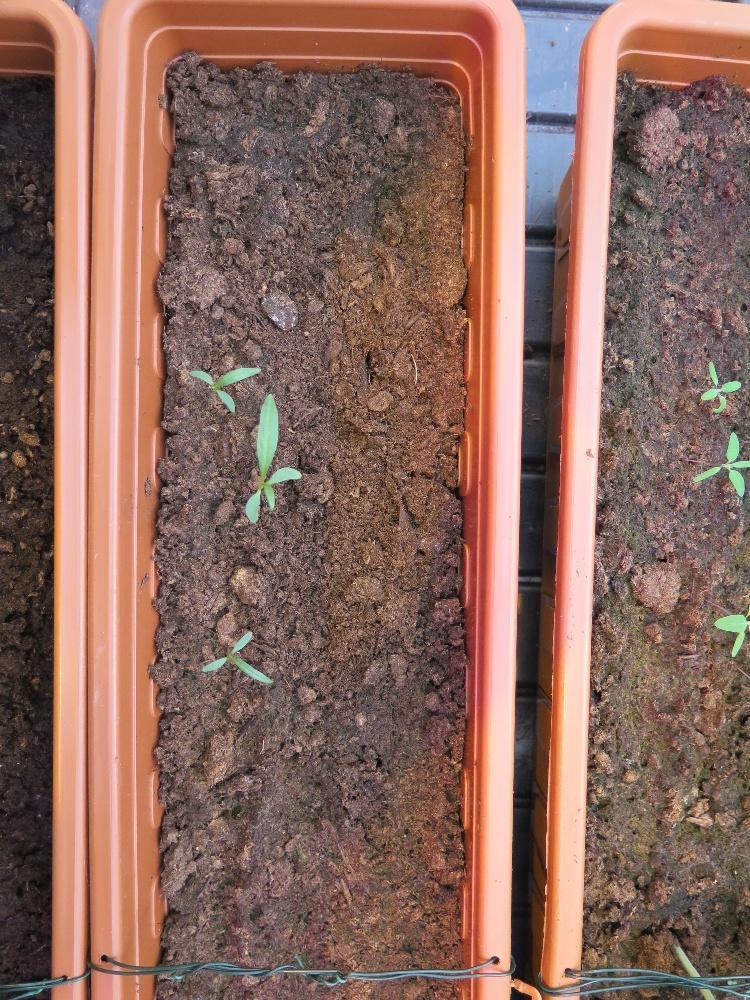weed: (243, 389, 301, 524), (200, 629, 273, 686), (187, 364, 260, 416), (698, 357, 740, 415)
